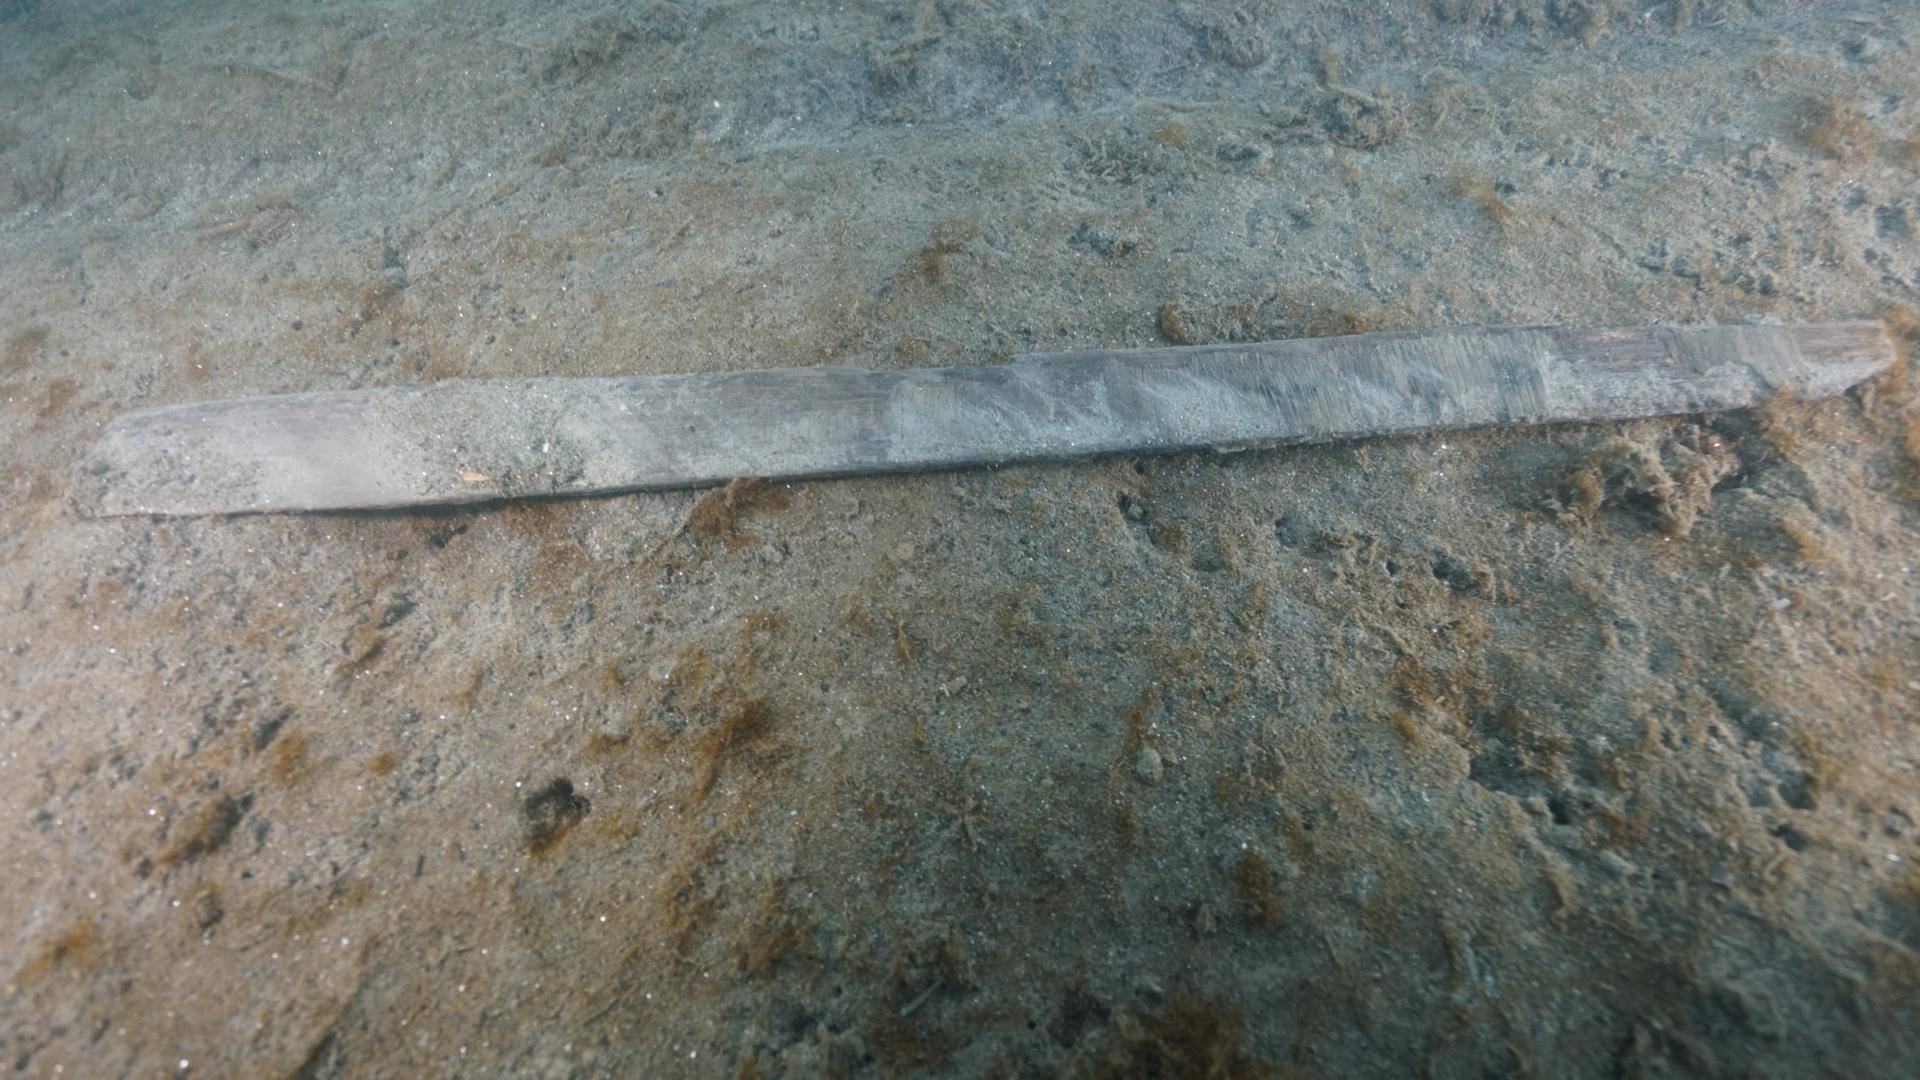wood: (86, 313, 1902, 524)
